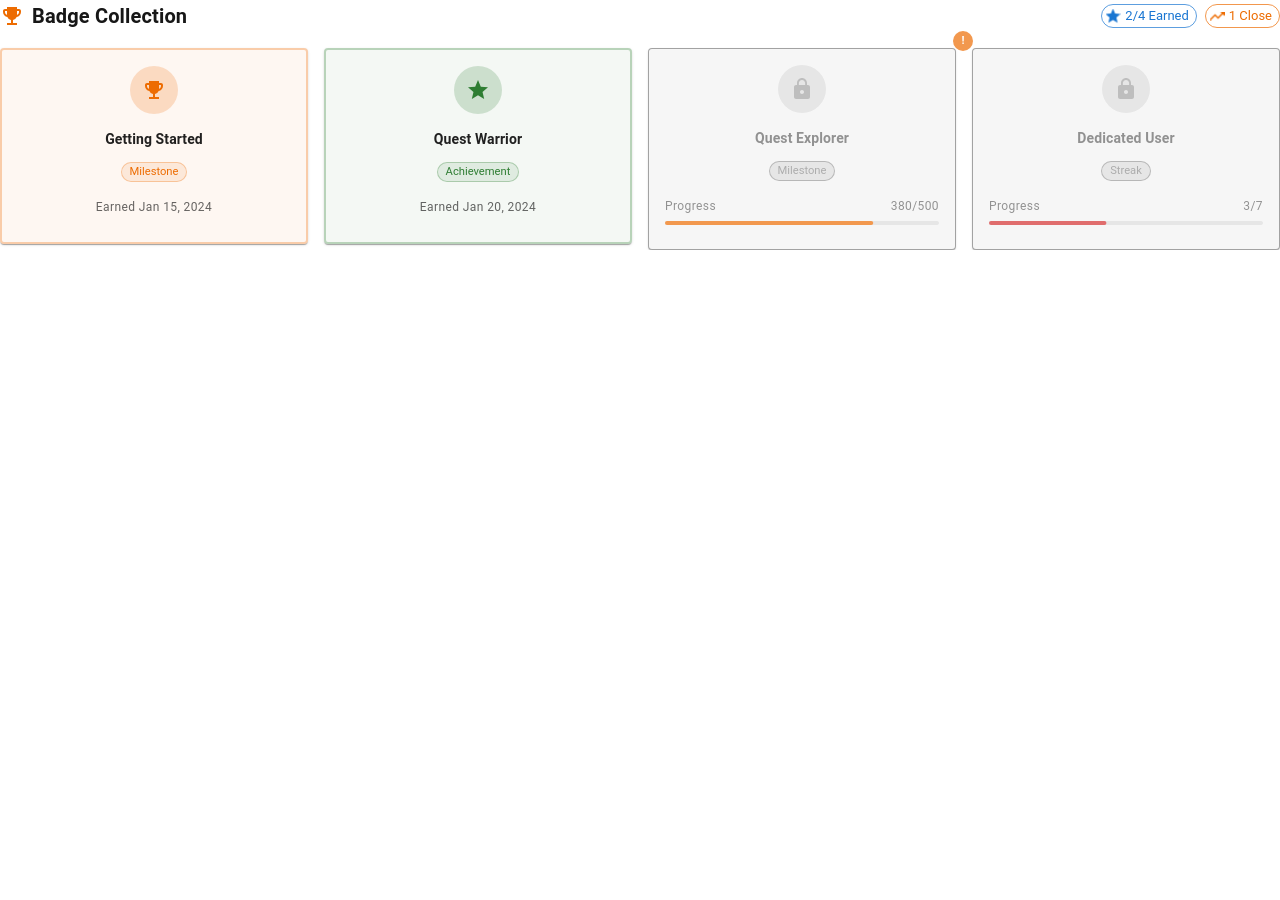
Test: BadgeCollection › Badge Modal Content › displays progress information in modal for unearned badge
The width and height of the screenshot is (1280, 900).
Click the heading "Quest Explorer".
click(802, 138)  # box x1=755 y1=130 x2=849 y2=146
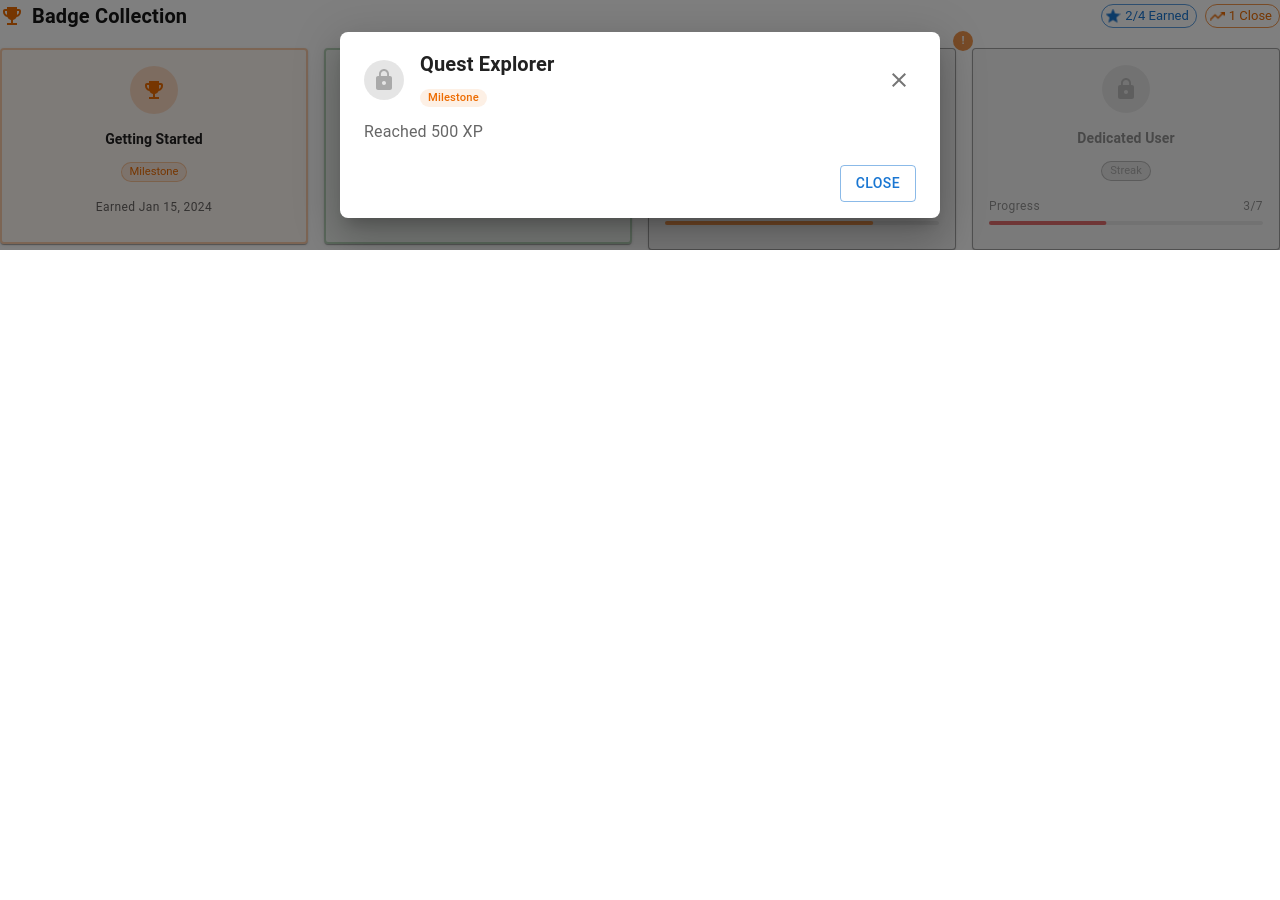
Result: the dialog is shown at x1=340 y1=32 x2=940 y2=218
